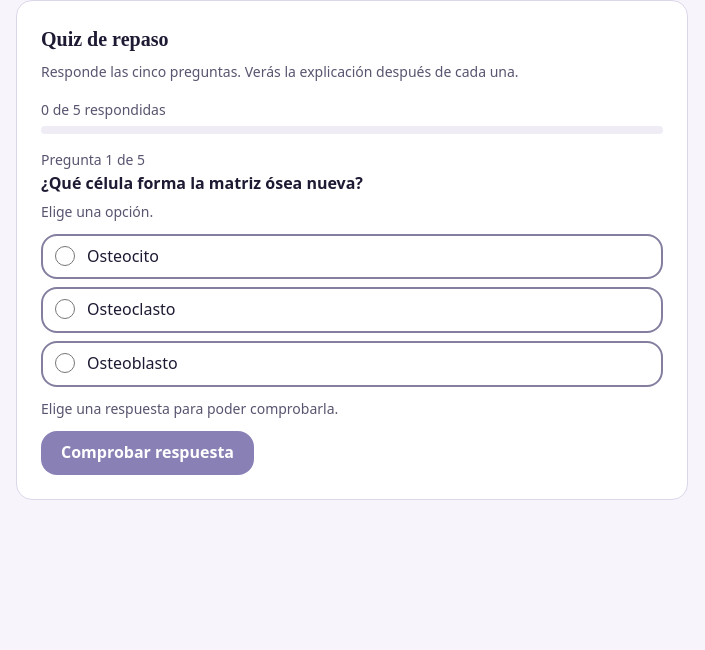
Scenario: ActividadQuiz: presentación › una opción múltiple con una sola correcta usa radios; con varias, casillas
Click the radio button labelled "Osteoblasto" at (65, 363), box [55,353,75,373]
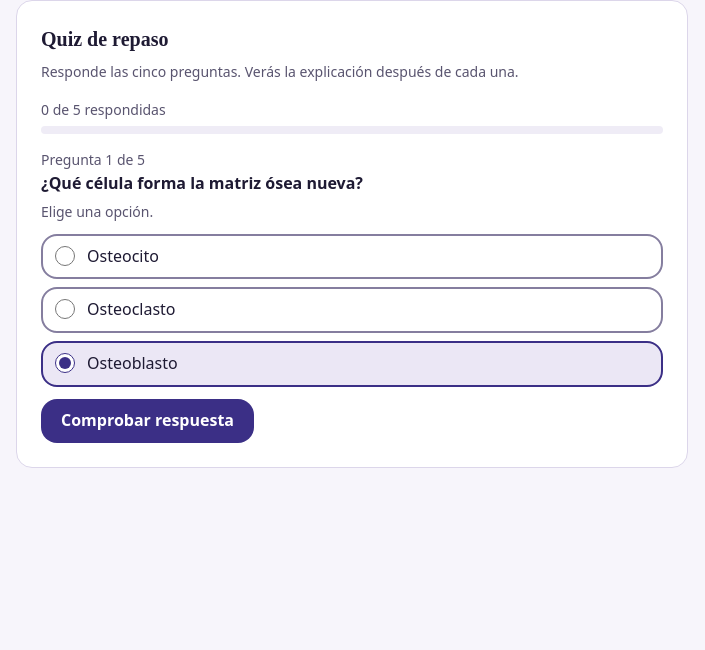
Click the button "Comprobar respuesta" at (148, 420), box [41,398,254,442]
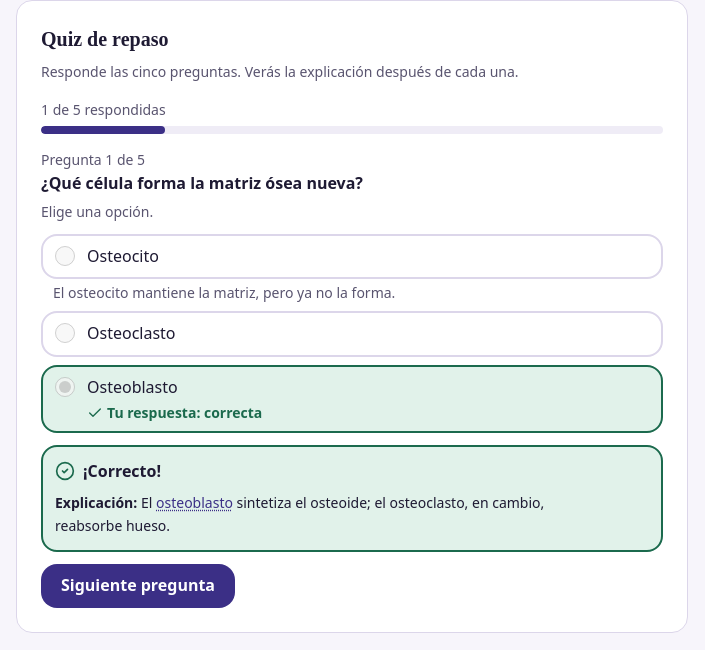
Click the button "Siguiente pregunta" at (138, 586), box [41,564,235,608]
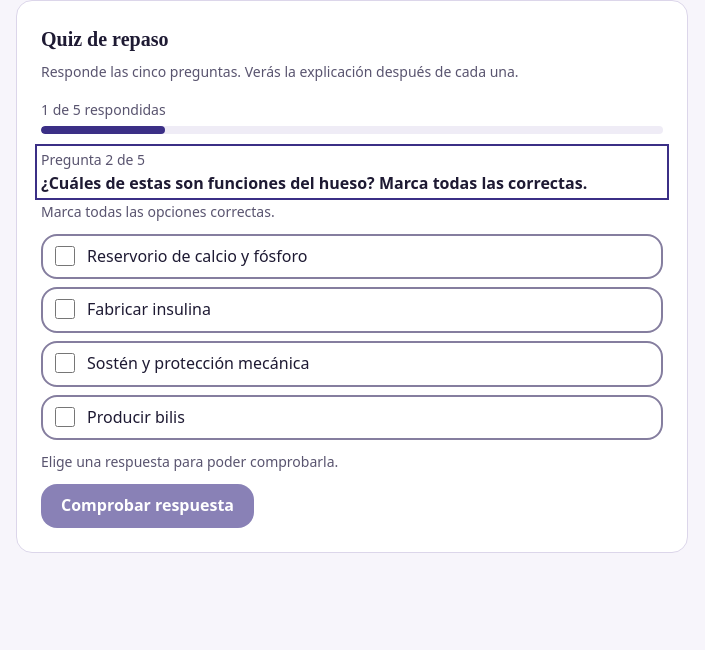
Check: the number of checkboxes is 4, box [55,246,75,266]; [55,299,75,319]; [55,353,75,373]; [55,406,75,426]
Check: no radio buttons are shown
Check: the text "Marca todas las opciones correctas." is shown, box [41,202,275,221]
